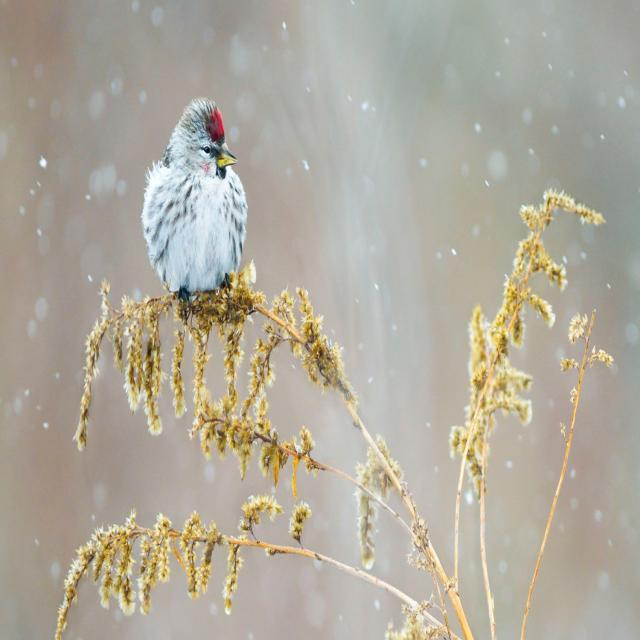bird: (133, 101, 253, 309)
